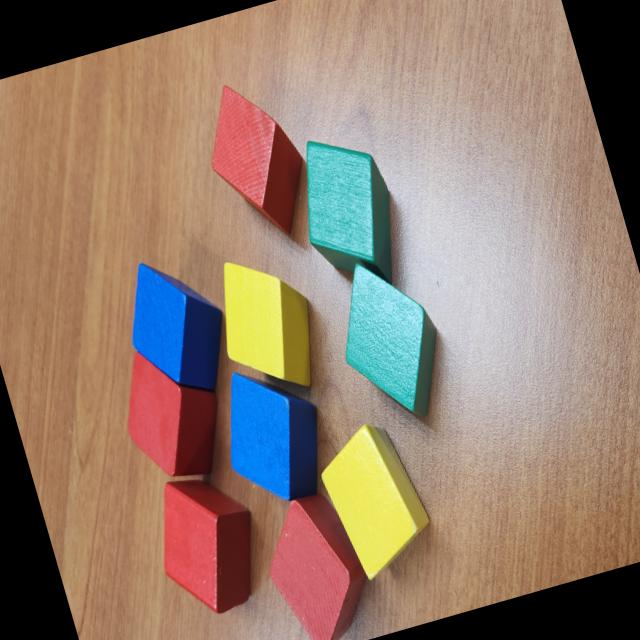blue: (205, 352, 340, 516), (111, 244, 243, 408)
green: (320, 244, 460, 433), (283, 123, 414, 304)
red: (192, 68, 322, 250), (140, 460, 276, 626), (105, 332, 238, 493), (251, 486, 383, 640)
yellow: (310, 414, 444, 586), (203, 244, 331, 407)
